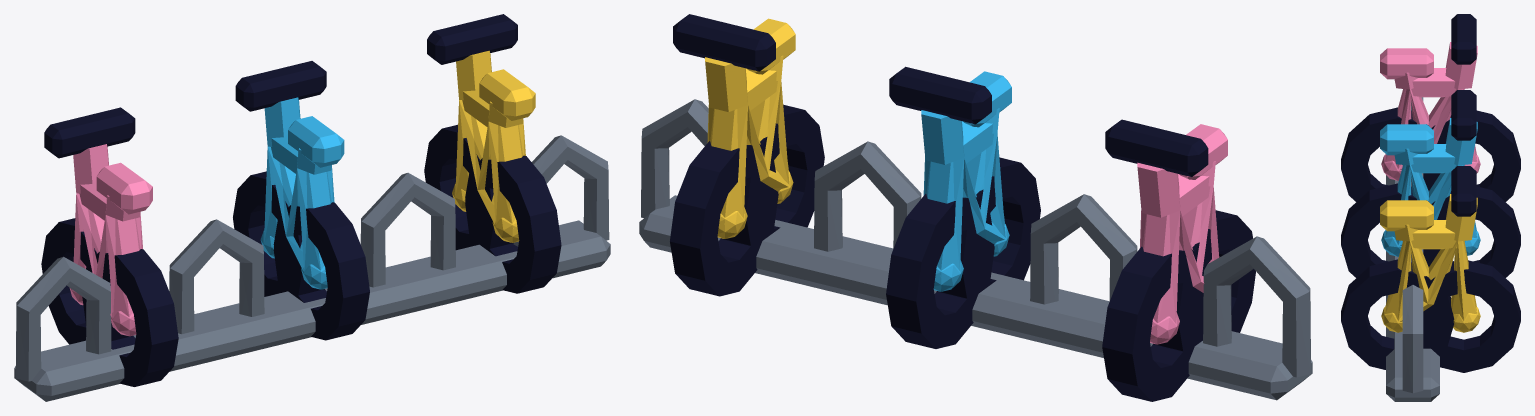
File: Prop_sakura_schoolyard_BikeRack.glb
The picture shows the model from 3 angles, left to right: view 1: azimuth 30°, elevation 25°; view 2: azimuth 150°, elevation 25°; view 3: azimuth 270°, elevation 25°; orthographic projection. The views are drawn at different scales.
Visible parts, largest first — view 1: Ink_0D0F2B, StoneDark_6B7686, Blue_38BDF8, Yellow_FFD23F, Sakura_FF8FC0; view 2: Ink_0D0F2B, StoneDark_6B7686, Blue_38BDF8, Yellow_FFD23F, Sakura_FF8FC0; view 3: Ink_0D0F2B, Yellow_FFD23F, Blue_38BDF8, Sakura_FF8FC0, StoneDark_6B7686.
Boxes of the visible parts, bbox=[...] form: Ink_0D0F2B: bbox=[41, 14, 561, 386]; StoneDark_6B7686: bbox=[14, 135, 610, 401]; Blue_38BDF8: bbox=[260, 97, 344, 289]; Yellow_FFD23F: bbox=[452, 50, 535, 242]; Sakura_FF8FC0: bbox=[69, 144, 152, 336]; Ink_0D0F2B: bbox=[670, 14, 1255, 401]; StoneDark_6B7686: bbox=[639, 99, 1312, 400]; Blue_38BDF8: bbox=[921, 71, 1011, 291]; Yellow_FFD23F: bbox=[705, 18, 795, 238]; Sakura_FF8FC0: bbox=[1137, 124, 1227, 344]; Ink_0D0F2B: bbox=[1341, 14, 1520, 372]; Yellow_FFD23F: bbox=[1380, 194, 1480, 332]; Blue_38BDF8: bbox=[1380, 118, 1480, 256]; Sakura_FF8FC0: bbox=[1380, 42, 1480, 180]; StoneDark_6B7686: bbox=[1386, 97, 1439, 401].
Bounding box in the file's own units: 9.3 × 3.46 × 3.
